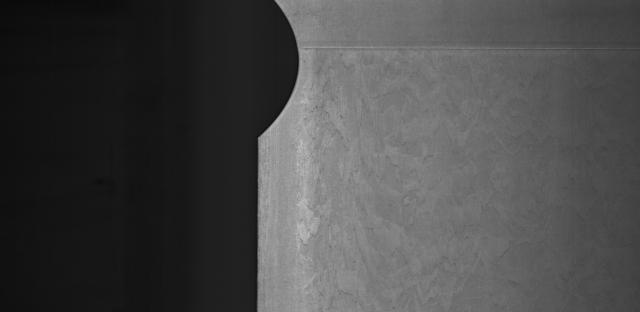crescent_gap: (237, 1, 311, 144)
silk_spot: (293, 70, 600, 303)
welding_line: (292, 36, 640, 60)
